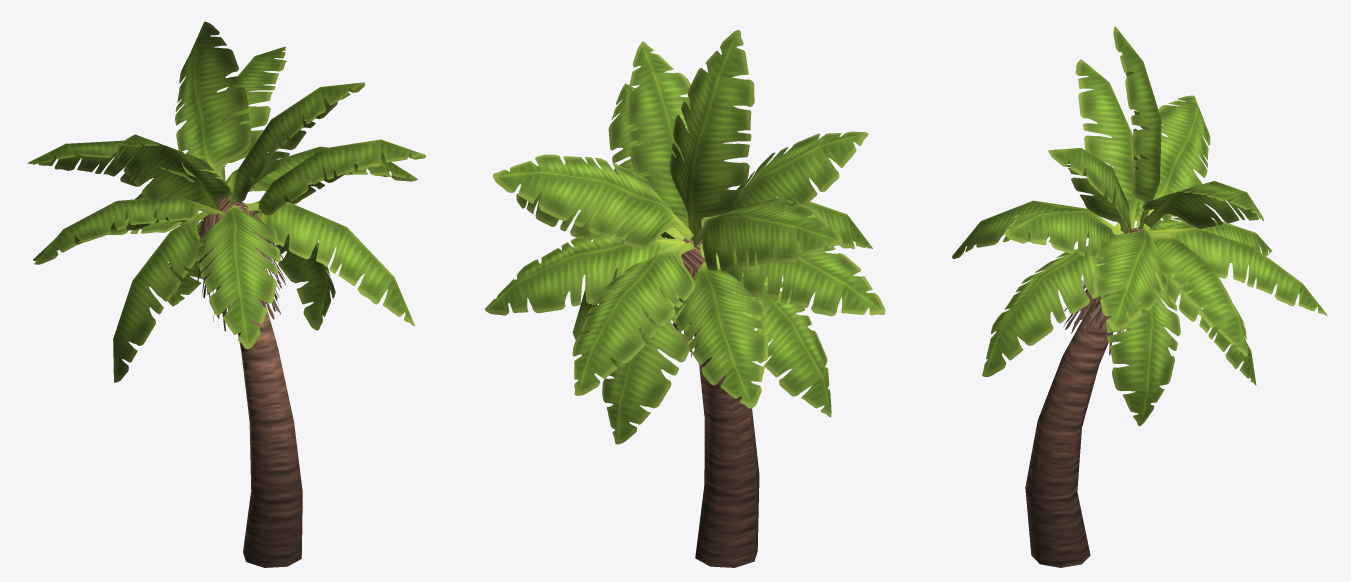
The model's file is Ctn_PalmTree_01_v03.FBX.
3 renders of one model, left to right at view 1: azimuth 30°, elevation 25°; view 2: azimuth 150°, elevation 25°; view 3: azimuth 270°, elevation 25°, orthographic. The views are drawn at different scales.
Visible parts, largest first — view 1: Ctn_PalmTree_01_v03; view 2: Ctn_PalmTree_01_v03; view 3: Ctn_PalmTree_01_v03.
Part boxes in pixels (box(x1,y1,x2,y2)): Ctn_PalmTree_01_v03: box(27, 21, 425, 567); Ctn_PalmTree_01_v03: box(484, 30, 885, 567); Ctn_PalmTree_01_v03: box(952, 26, 1327, 567).
Bounding box in the file's own units: 207 × 274 × 188.
